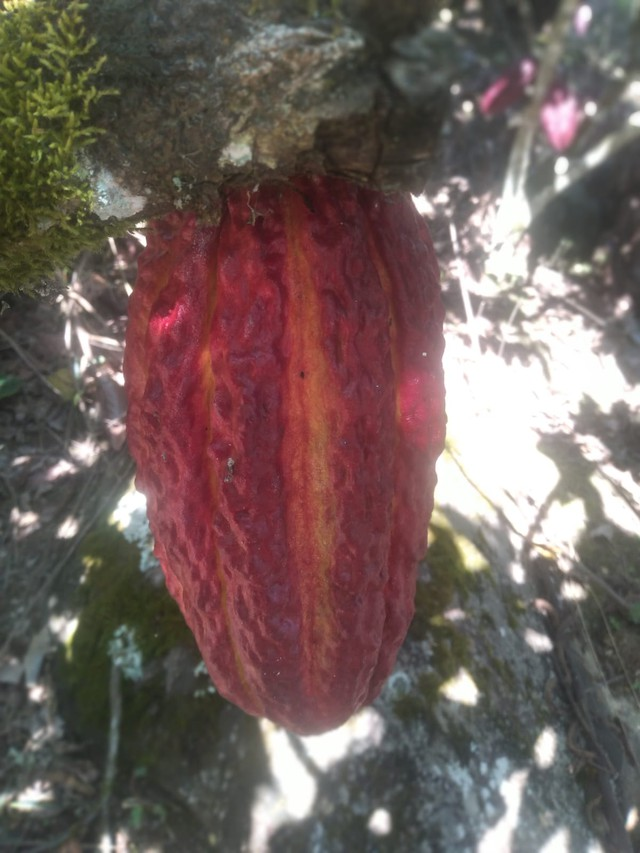Health: (106, 113, 461, 750)
